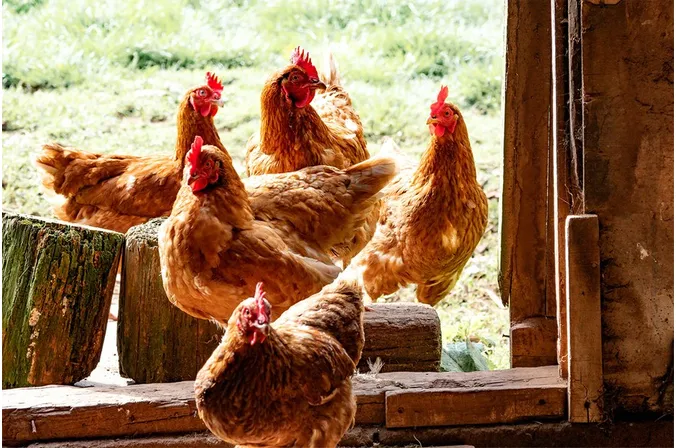Healthy: (158, 132, 363, 350), (186, 257, 374, 448), (353, 83, 492, 329), (245, 35, 372, 209)
